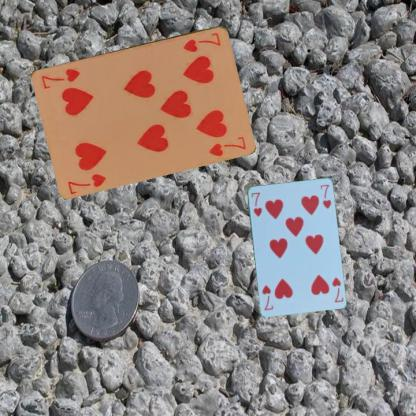7h: (65, 170, 109, 196), (181, 30, 222, 53), (248, 189, 263, 218), (330, 274, 344, 304)
